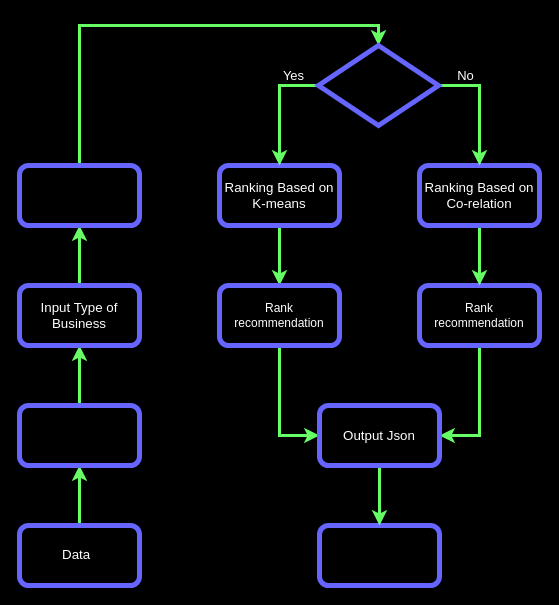
This 559x605 diagram has some shape labels left out. Each missing label, with the centre of its shape:
Established Business: pixel 378 85
HTML Web Application: pixel 79 435
Model: pixel 79 195
Recommended Locations: pixel 379 555
